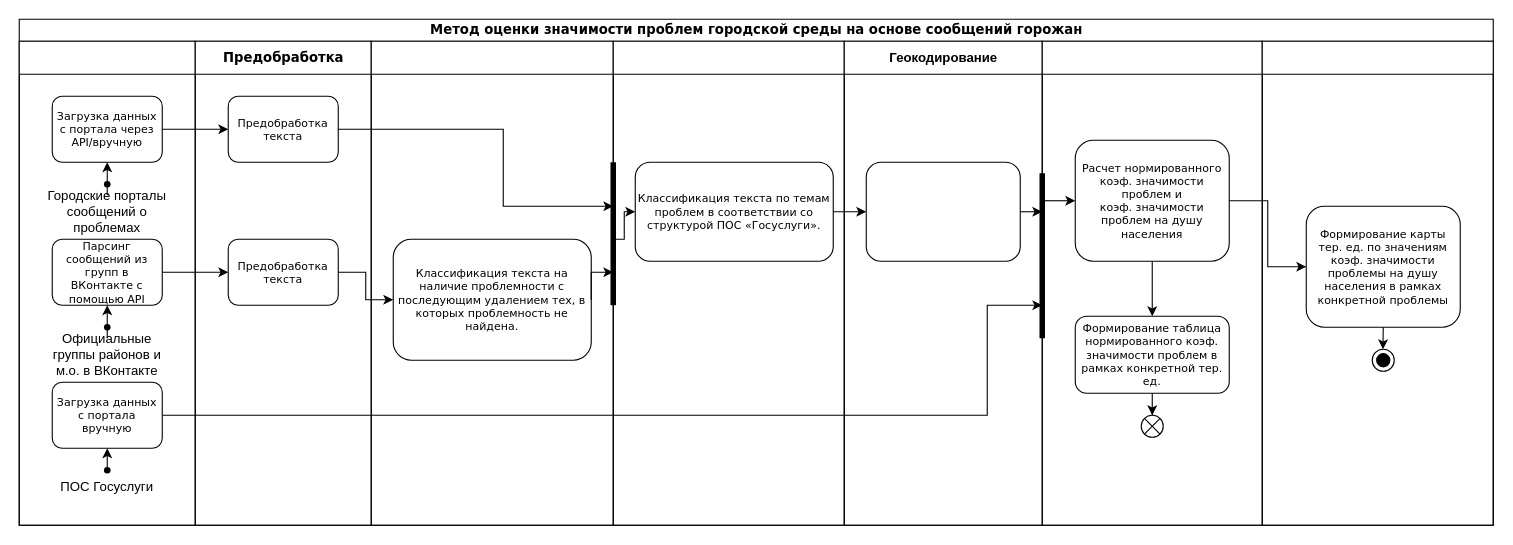
This 1513x545 diagram has some shape labels left out. The shapes that lost their labels are listed below. From the top down, each one's box as (x1, y1, x2, y2) in pixels, then its label:
(865, 161, 1020, 261): Геокодирование пространственных сущностей в тексте
(18, 40, 195, 525): Получение данных
(370, 40, 613, 525): Классификация на наличие проблемности
(612, 40, 844, 525): Классификация по темам проблем
(1041, 40, 1262, 525): Расчет коэф. значимости проблем
(1261, 40, 1493, 525): Визуализация
